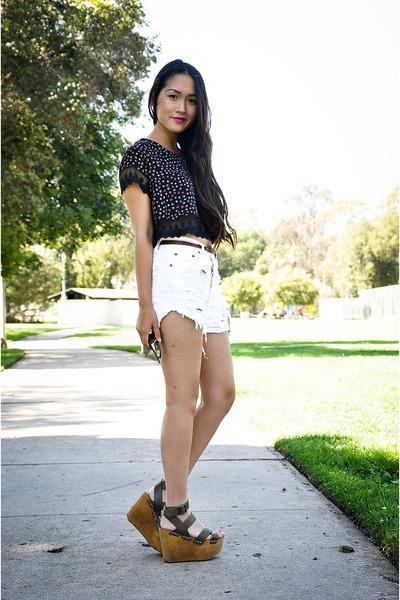shirt: (119, 132, 229, 247)
shoe: (127, 480, 222, 562)
shorts: (152, 237, 227, 335)
